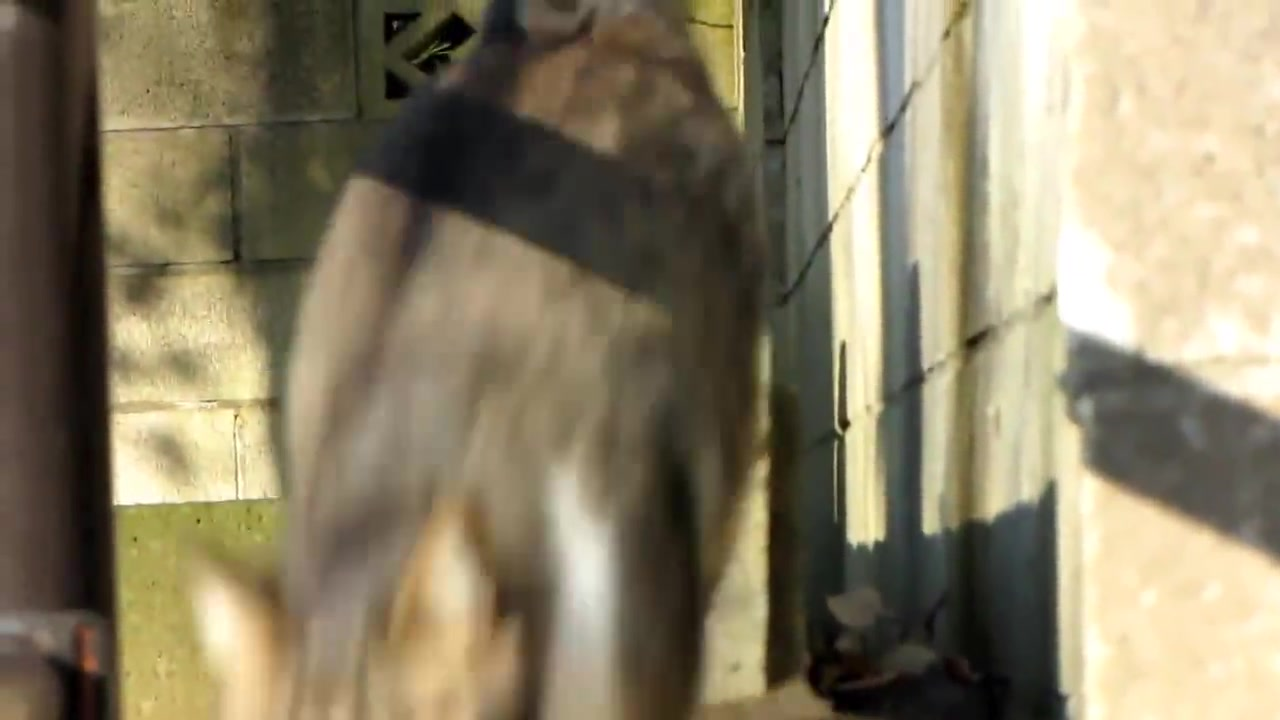cat: (276, 1, 781, 718)
